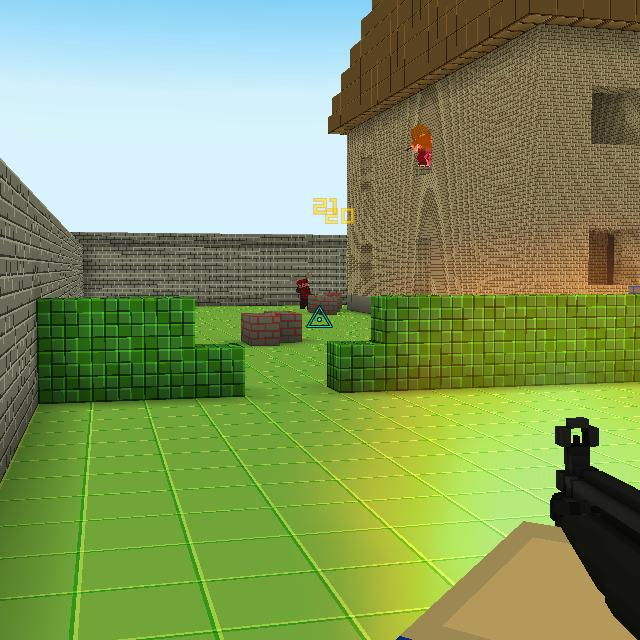enemy: (411, 123, 434, 169), (295, 275, 312, 310)
